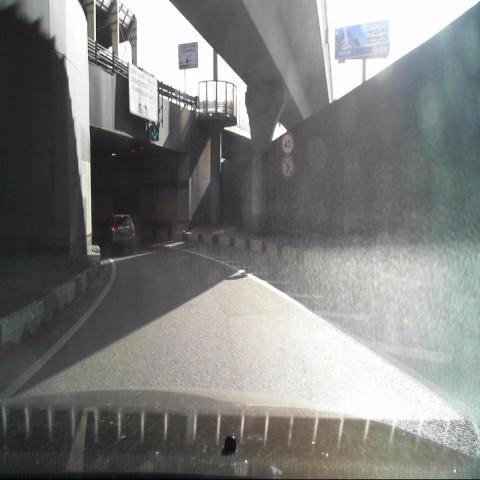3_10: (280, 156, 294, 177)
